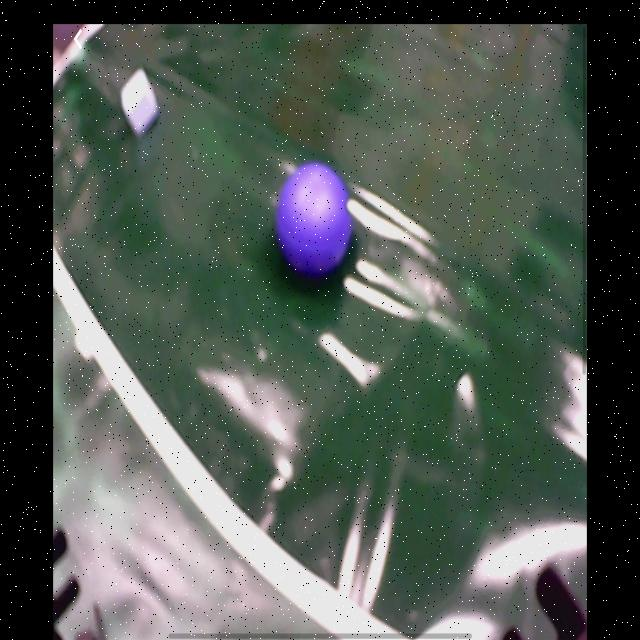ball: (276, 165, 353, 276)
